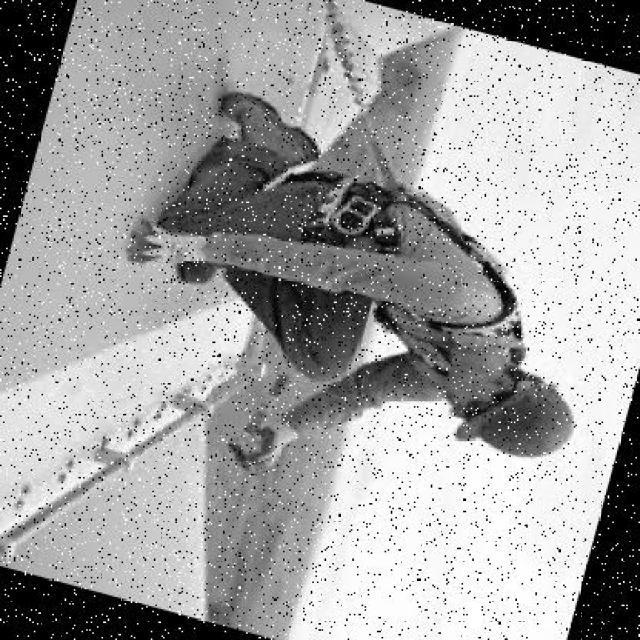Arnes_seguridad: (267, 162, 550, 396)
